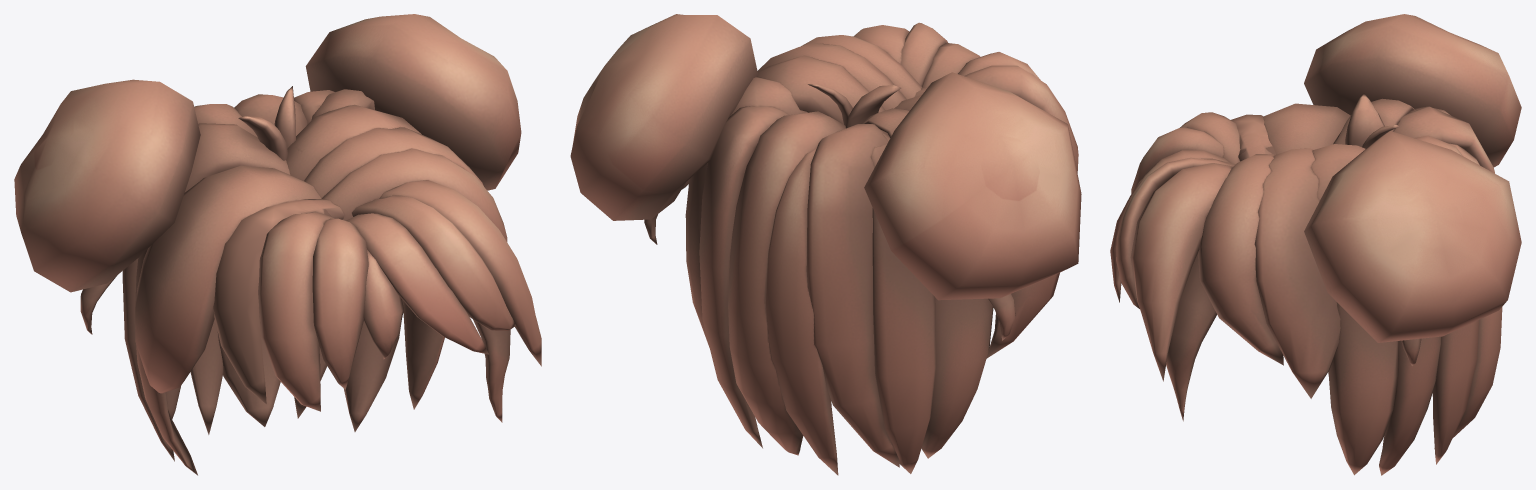
File: Hair.glb
3 views of the same model, side by side, from view 1: azimuth 30°, elevation 25°; view 2: azimuth 150°, elevation 25°; view 3: azimuth 270°, elevation 25° (orthographic). The views are drawn at different scales.
Parts seen in each view (by area): view 1: Stylized Twin Bun Hair Anime Girl; view 2: Stylized Twin Bun Hair Anime Girl; view 3: Stylized Twin Bun Hair Anime Girl.
Part boxes in pixels (x1,y1,x2,y2): Stylized Twin Bun Hair Anime Girl: (14,14,541,475); Stylized Twin Bun Hair Anime Girl: (570,14,1081,475); Stylized Twin Bun Hair Anime Girl: (1110,14,1521,475).
Bounding box in the file's own units: 0.3494 × 0.2688 × 0.2728.
Materials: 1 (1 with a texture image).
